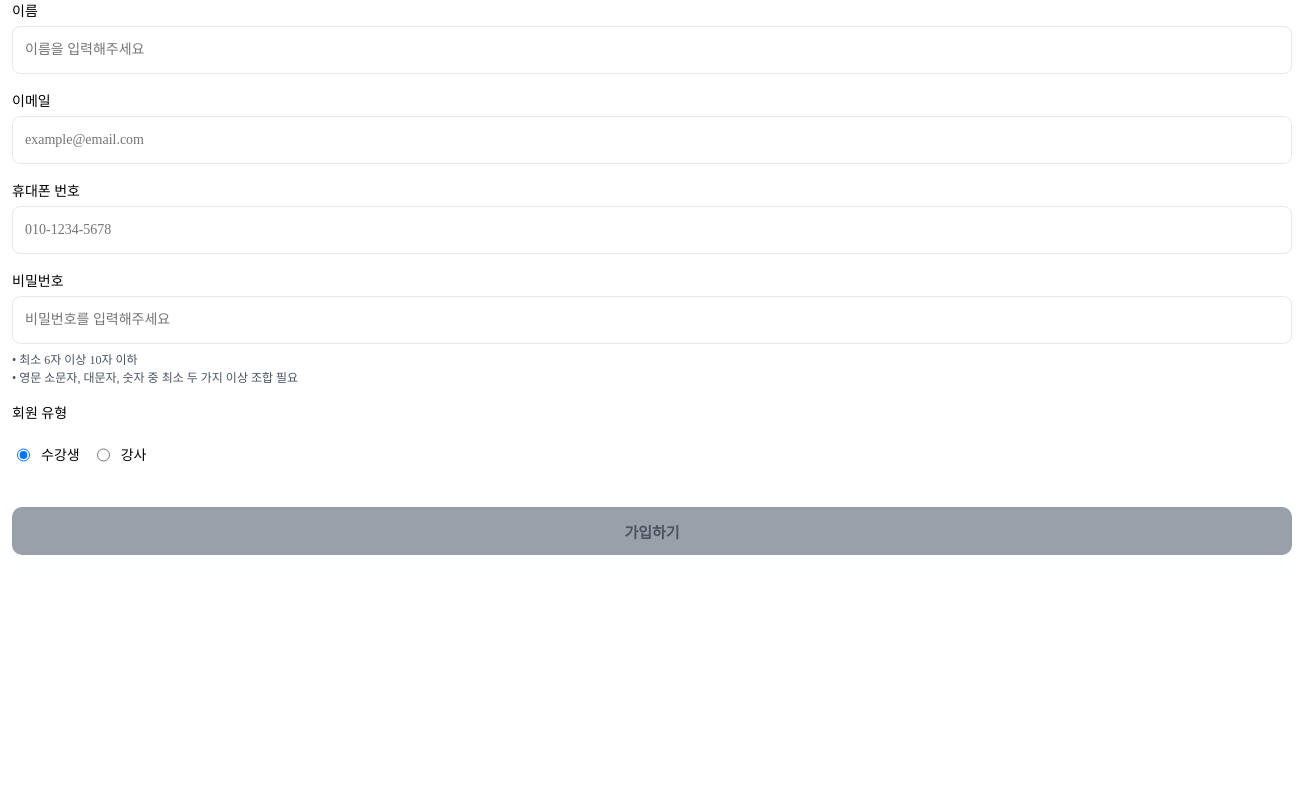
Test: SignUpForm › 휴대폰 번호 자리수가 부족하면 에러를 노출한다
Type "0101234" into the field with placeholder "010-1234-5678" at (652, 230), box [12,206,1292,254]
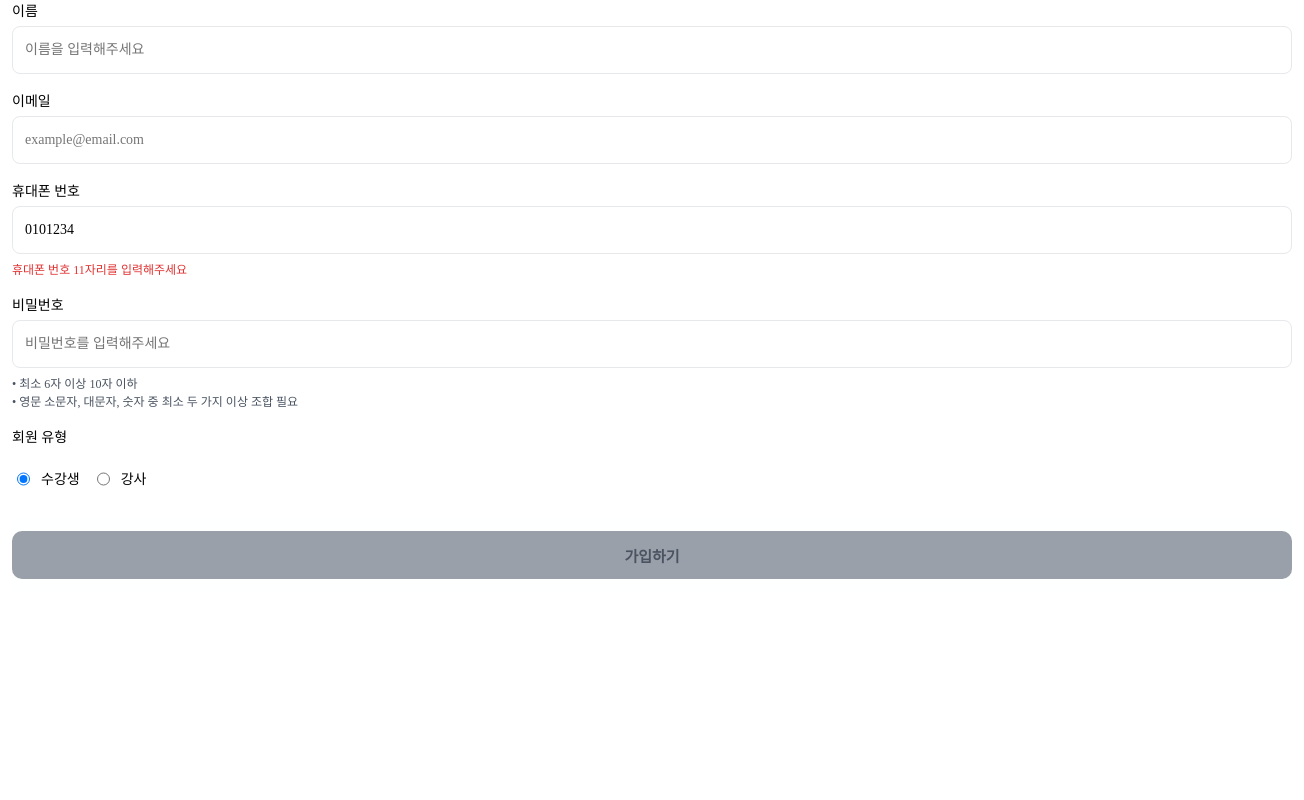
Expected: the text "휴대폰 번호 11자리를 입력해주세요" is shown, [12,263,187,277]
